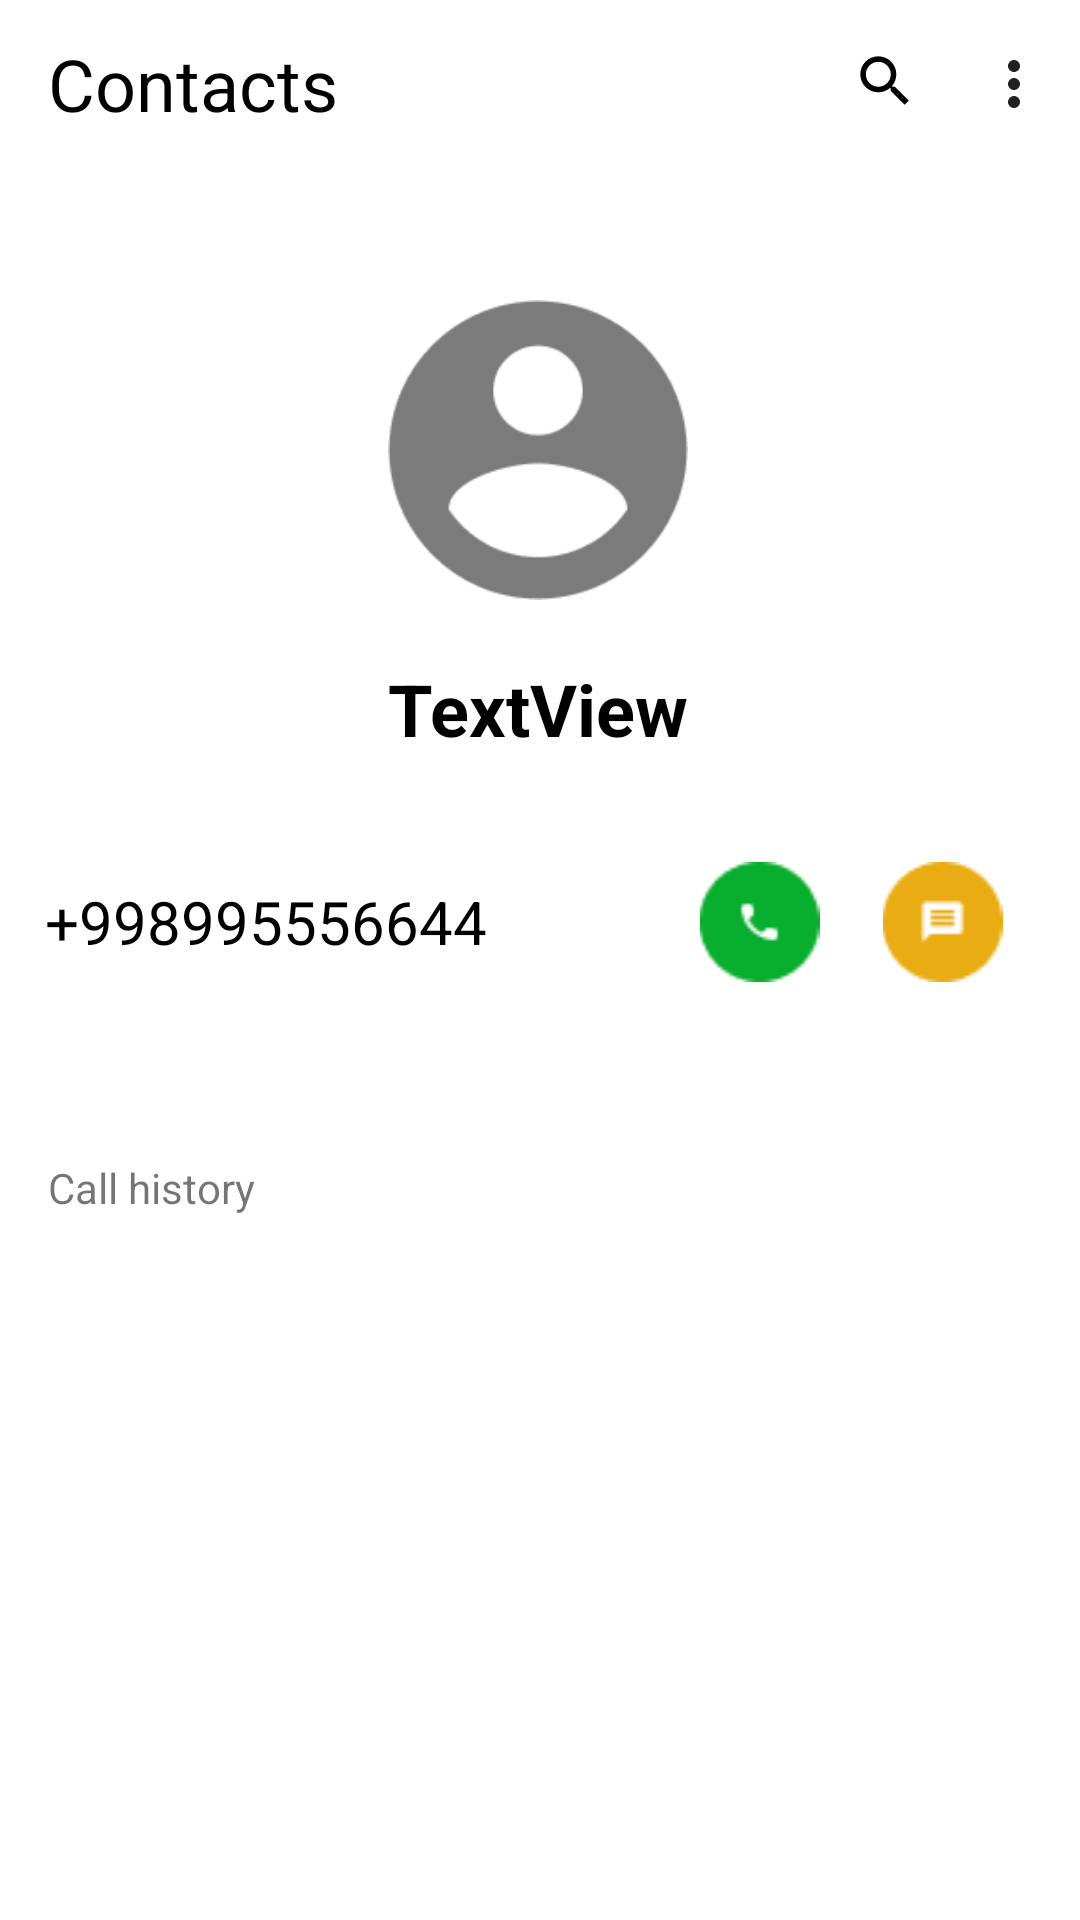

Icons on this 1080*1920 Android screen, each with its box as Rect(x1, y1, x2, y2):
account: Rect(388, 300, 688, 600)
call: Rect(700, 862, 820, 982)
message: Rect(883, 862, 1003, 982)
